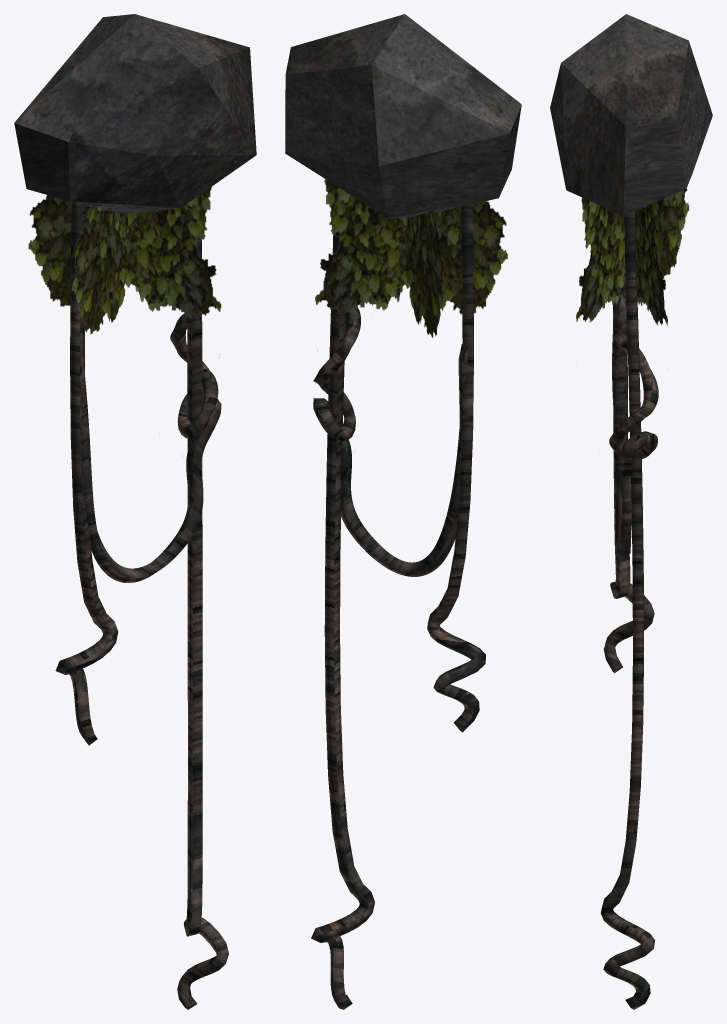
The model's file is vines_1.glb.
3 renders of one model, left to right at view 1: azimuth 30°, elevation 25°; view 2: azimuth 150°, elevation 25°; view 3: azimuth 270°, elevation 25°, orthographic. The views are drawn at different scales.
Visible parts, largest first — view 1: Cube, cable, Plane; view 2: Cube, cable, Plane; view 3: Cube, cable, Plane.
Part boxes in pixels (left/top/right/bottom): Cube: left=14, top=14, right=256, bottom=214; cable: left=55, top=202, right=228, bottom=1009; Plane: left=28, top=187, right=221, bottom=334; Cube: left=285, top=14, right=521, bottom=218; cable: left=311, top=204, right=485, bottom=1009; Plane: left=315, top=179, right=507, bottom=337; Cube: left=550, top=14, right=712, bottom=215; cable: left=600, top=211, right=658, bottom=1009; Plane: left=576, top=188, right=689, bottom=325.
Bounding box in the file's own units: 2.69 × 11.42 × 1.74.
Materials: 3 (3 with a texture image).
